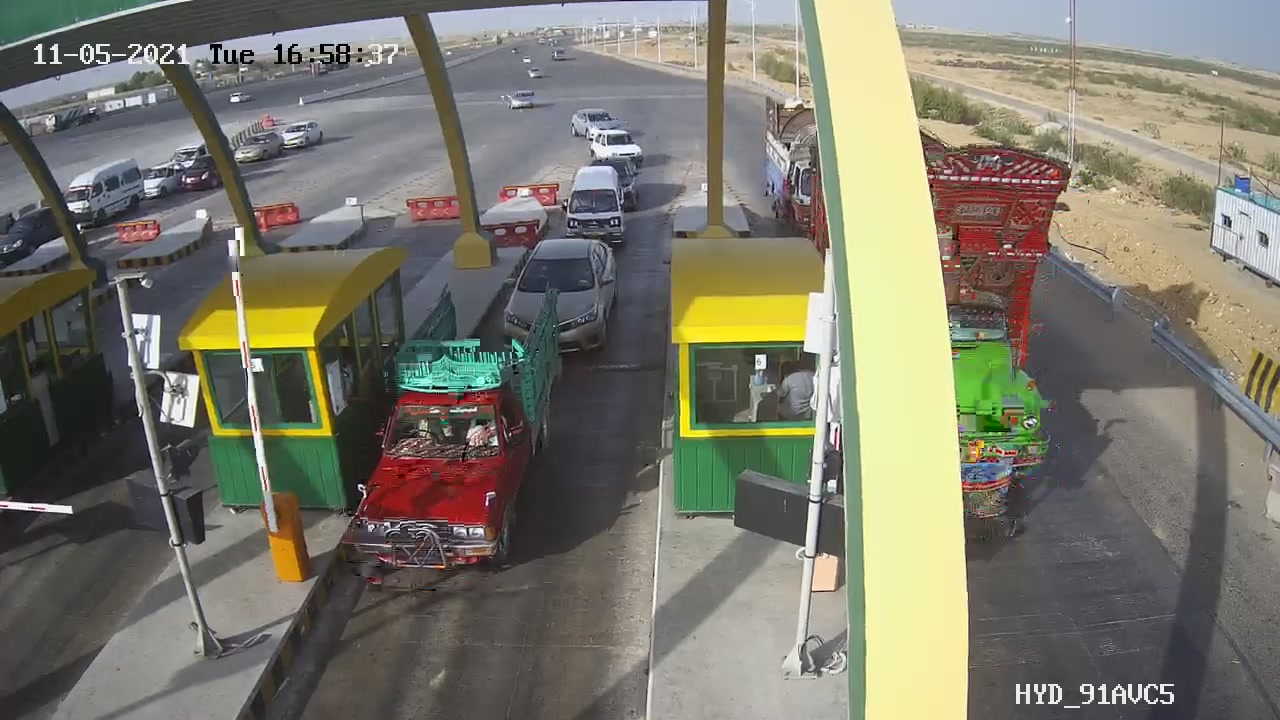F1: (481, 219, 635, 376), (545, 156, 645, 256)
